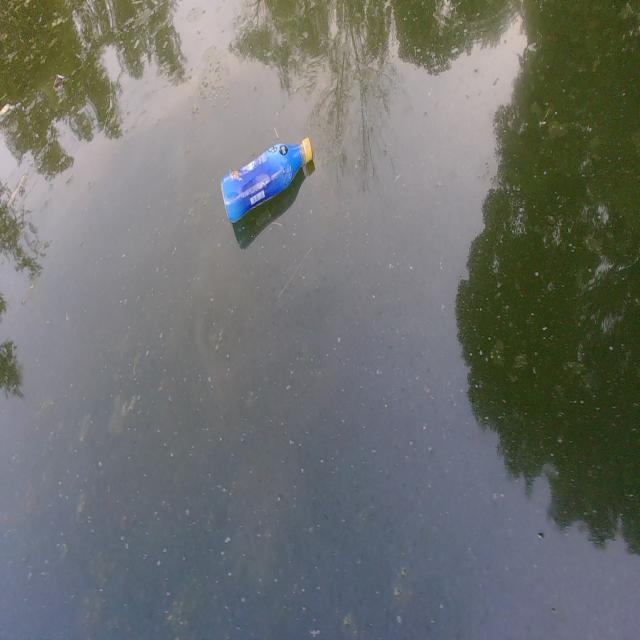bottle: (206, 108, 330, 246)
